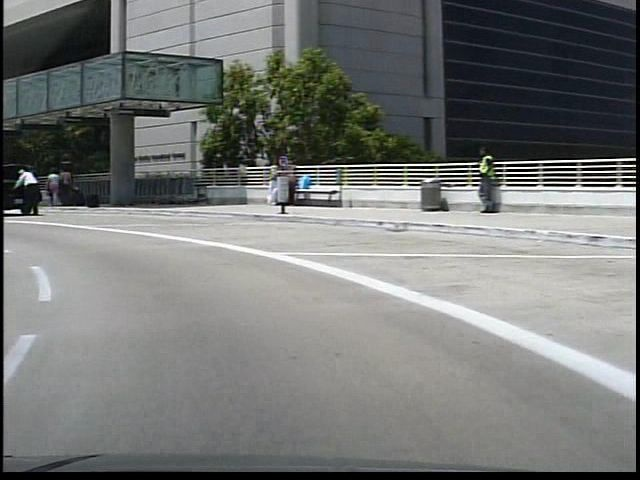person: (466, 148, 493, 222), (13, 165, 40, 217), (54, 167, 70, 212), (42, 169, 57, 210)
